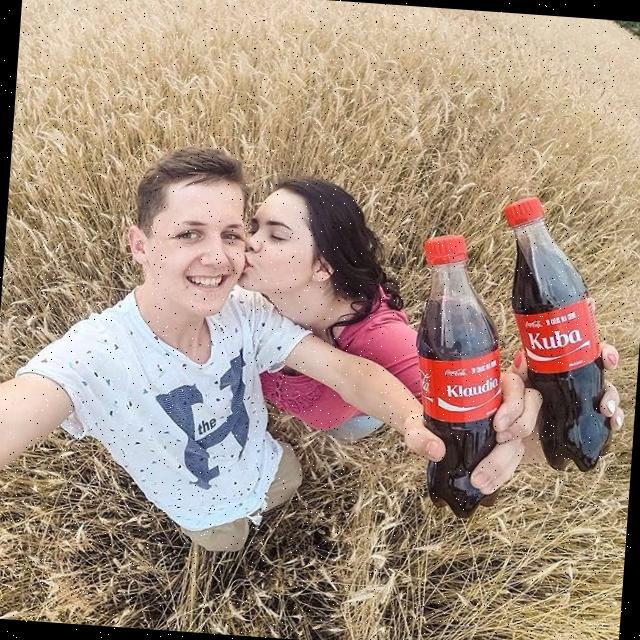coca-cola: (484, 191, 632, 476), (404, 230, 518, 522)
